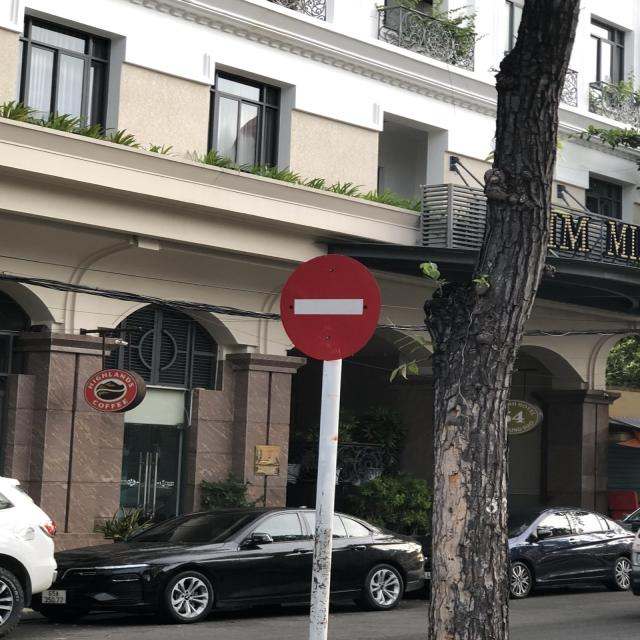Bien bao cam di nguoc chieu: (267, 250, 391, 362)
